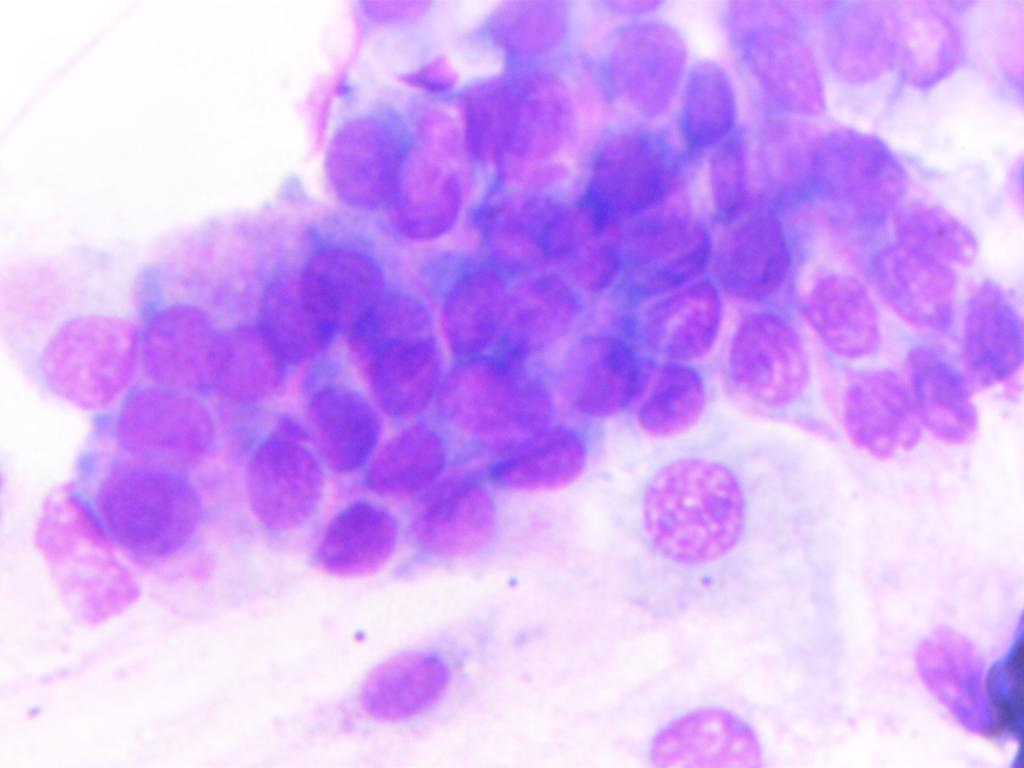artifact: (21, 474, 139, 648)
epithelial: (4, 286, 146, 410), (95, 456, 217, 572), (451, 337, 560, 459), (638, 452, 755, 563), (801, 122, 921, 228), (339, 641, 468, 733), (628, 270, 749, 368), (823, 346, 924, 458), (545, 330, 658, 430), (721, 308, 806, 440), (705, 198, 808, 304), (858, 231, 963, 332), (905, 624, 1002, 732), (301, 380, 400, 484), (733, 18, 832, 122), (404, 481, 514, 574), (894, 338, 990, 443), (507, 72, 588, 194), (478, 434, 597, 512), (569, 131, 680, 214), (637, 702, 774, 768), (391, 134, 473, 242), (134, 302, 229, 393), (233, 434, 320, 533), (602, 209, 703, 294), (474, 183, 584, 260), (311, 501, 408, 588), (329, 114, 410, 218), (114, 386, 215, 468), (666, 53, 748, 154), (298, 248, 394, 333), (634, 356, 716, 454), (958, 271, 1024, 391), (606, 24, 688, 119), (880, 12, 969, 98), (259, 263, 337, 361), (357, 298, 444, 384), (502, 271, 580, 362), (206, 318, 284, 406), (486, 0, 578, 70), (443, 257, 512, 349), (807, 0, 878, 86), (358, 428, 443, 493), (893, 208, 981, 268), (347, 0, 444, 38)
